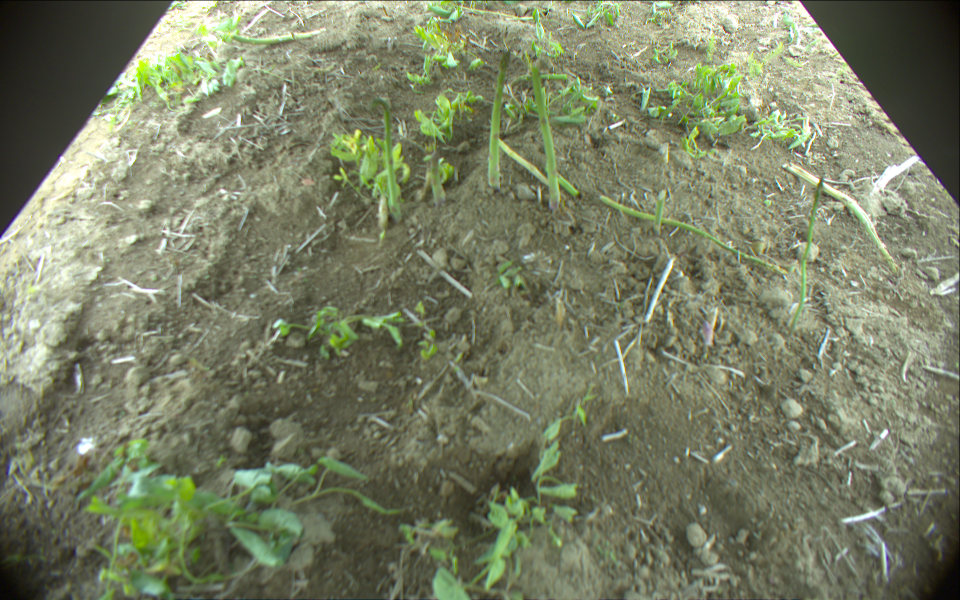aspa: (600, 195, 786, 274), (784, 161, 899, 273), (788, 176, 825, 337), (530, 62, 558, 208), (372, 98, 399, 216), (488, 62, 505, 189), (208, 29, 326, 44), (428, 150, 444, 202), (555, 172, 580, 198), (654, 186, 667, 229)
